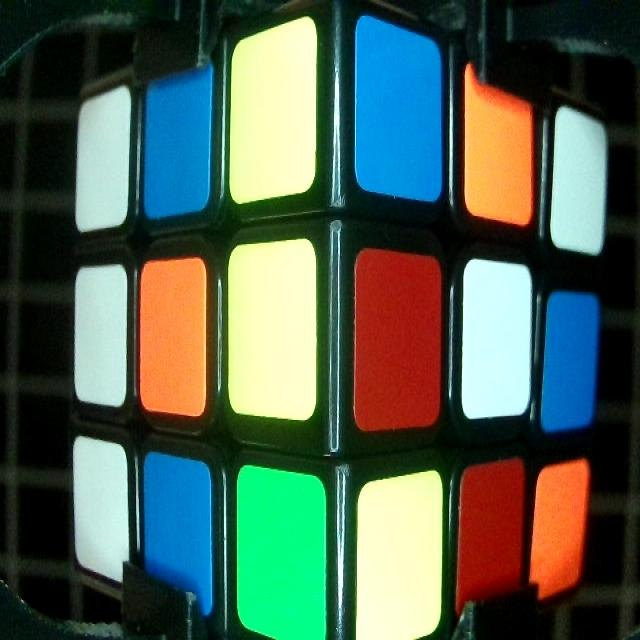b: (355, 18, 446, 197), (143, 455, 212, 613), (146, 63, 212, 212), (546, 297, 594, 425)
g: (235, 466, 327, 639)
o: (463, 62, 533, 226), (139, 262, 206, 409), (530, 462, 589, 598)
r: (354, 250, 441, 430), (457, 459, 525, 619)
w: (464, 254, 532, 410), (74, 86, 132, 227), (75, 440, 132, 580), (72, 266, 126, 398), (556, 108, 604, 248)
y: (230, 17, 315, 202), (228, 242, 317, 412), (359, 470, 442, 638)
